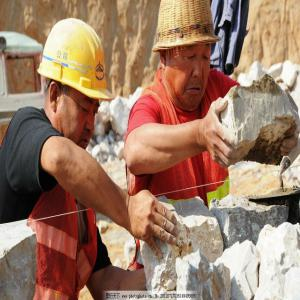none: (157, 3, 217, 113)
yellow: (43, 18, 108, 155)
